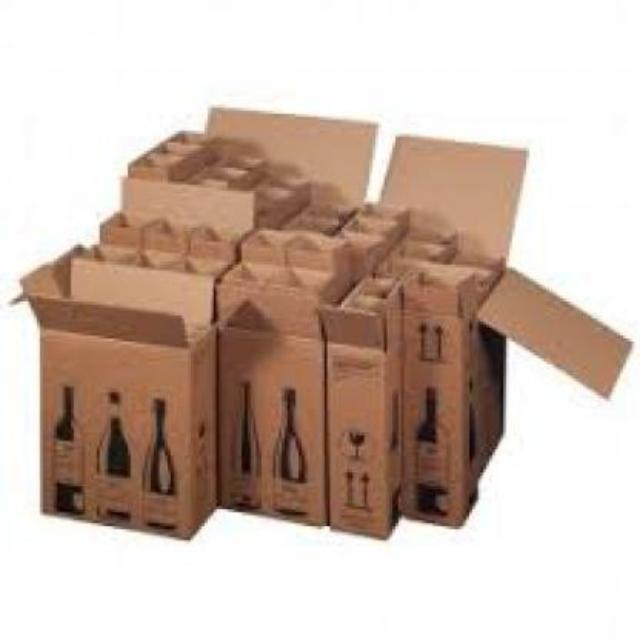cardboard_box: (330, 170, 622, 486), (114, 95, 343, 473), (13, 263, 217, 533), (226, 260, 330, 536), (406, 284, 484, 532), (318, 302, 396, 542)
